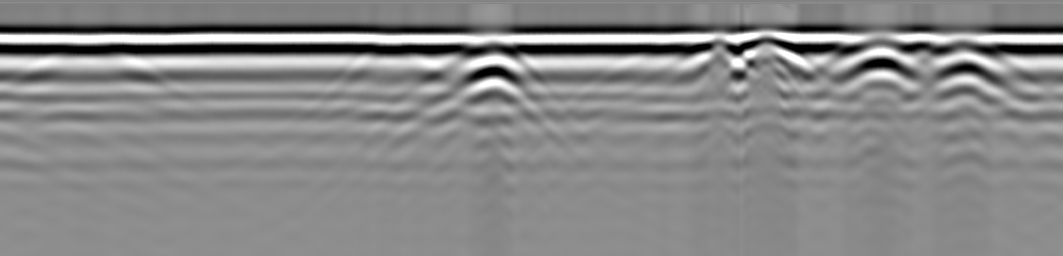pipe: (930, 37, 1000, 79), (463, 38, 528, 82), (847, 36, 908, 74), (696, 34, 740, 66), (748, 35, 795, 62)
